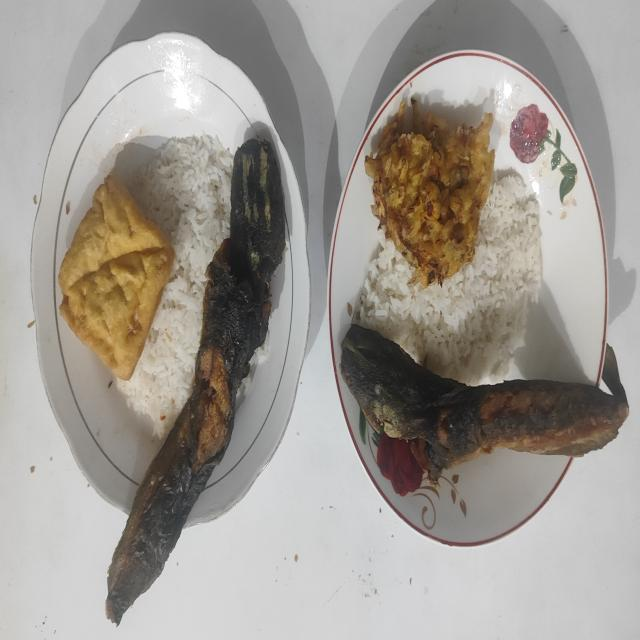nasi_putih: (352, 170, 542, 386), (118, 134, 232, 436)
tahu_goreng: (59, 175, 174, 380)
